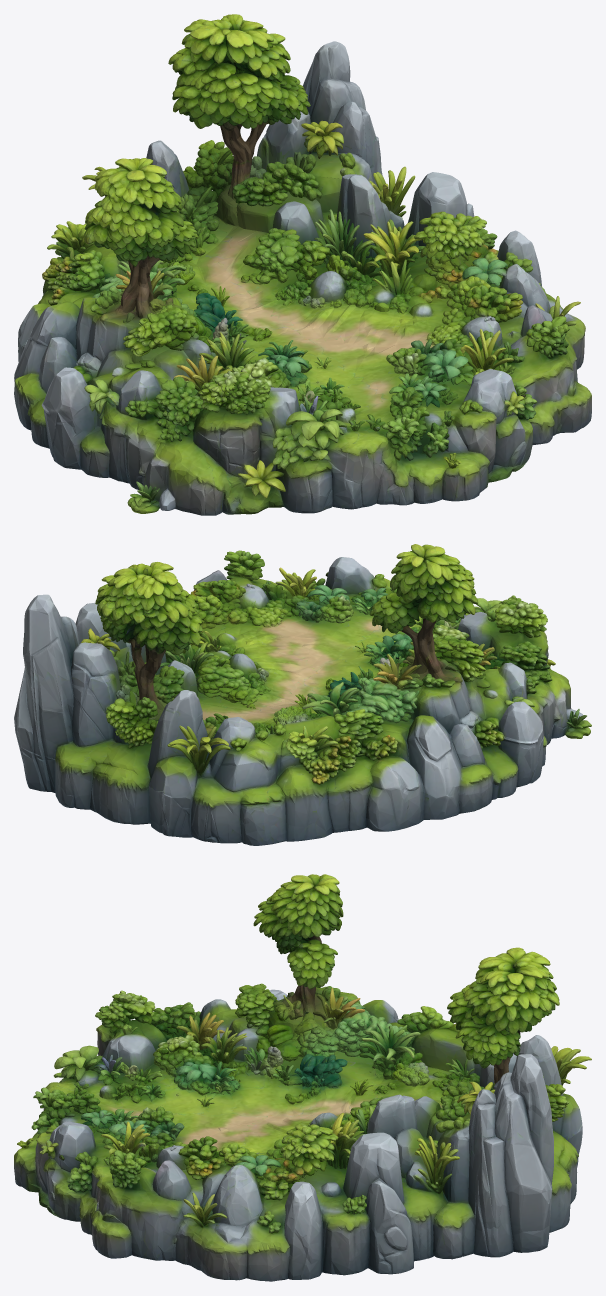
The model's file is hi3d-island.glb.
The picture shows the model from 3 angles, top to bottom: view 1: azimuth 30°, elevation 25°; view 2: azimuth 150°, elevation 25°; view 3: azimuth 270°, elevation 25°; orthographic projection. The views are drawn at different scales.
Visible parts, largest first — view 1: geometry_0; view 2: geometry_0; view 3: geometry_0.
Boxes of the visible parts, x1,y1,x2,y2 form: geometry_0: (14,14,591,515); geometry_0: (14,544,591,845); geometry_0: (14,874,591,1281).
Size of the model in its own units: 0.9146 by 0.4574 by 0.9991.
1 material, 1 textured.
